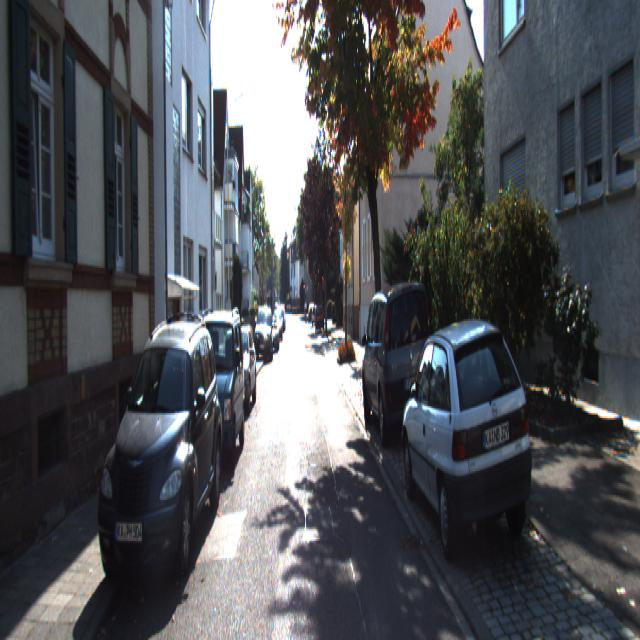Car: (89, 306, 225, 608), (399, 314, 547, 582), (358, 276, 437, 450), (186, 310, 246, 480), (215, 323, 258, 419), (254, 306, 274, 365)
